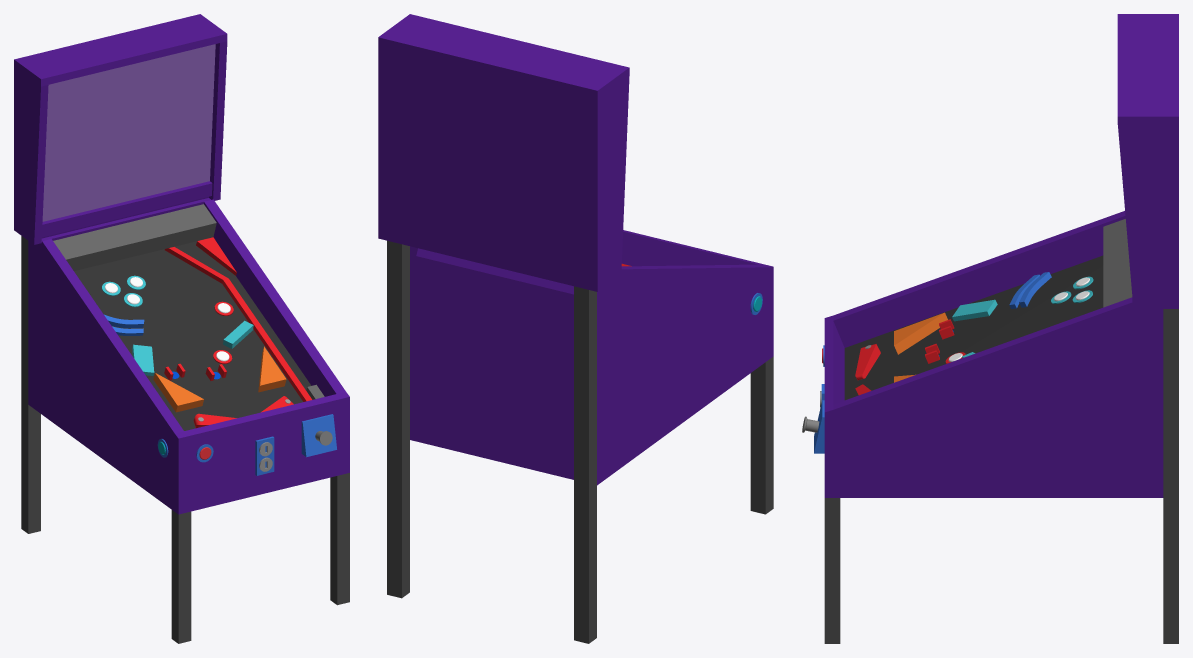
Rendered from MesaPing.fbx.
The picture shows the model from 3 angles, left to right: view 1: azimuth 30°, elevation 25°; view 2: azimuth 150°, elevation 25°; view 3: azimuth 270°, elevation 25°; orthographic projection. The views are drawn at different scales.
Visible parts, largest first — view 1: MesaPing; view 2: MesaPing; view 3: MesaPing.
Part boxes in pixels (x1,y1,x2,y2): MesaPing: (14, 14, 349, 643); MesaPing: (378, 14, 773, 643); MesaPing: (802, 14, 1178, 643).
Size of the model in its own units: 73.22 by 177 by 114.
